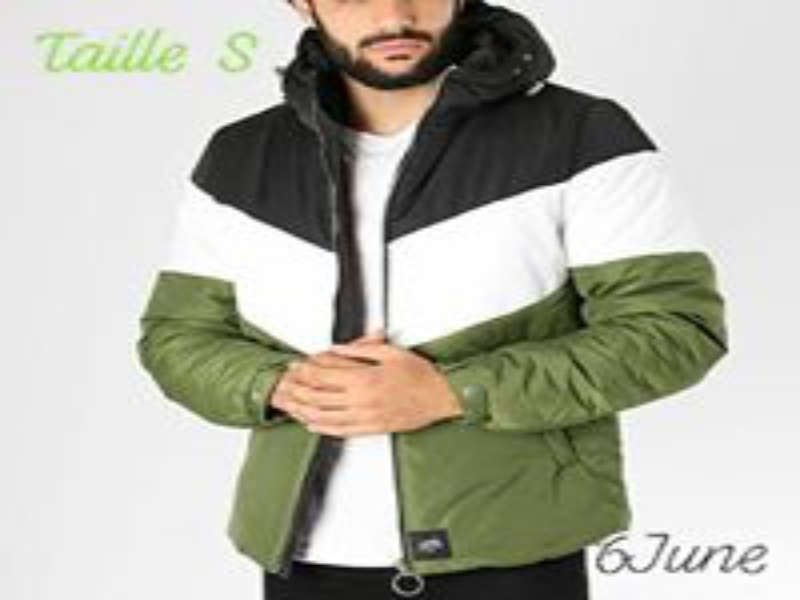TsisyArotava: (271, 1, 490, 105)
